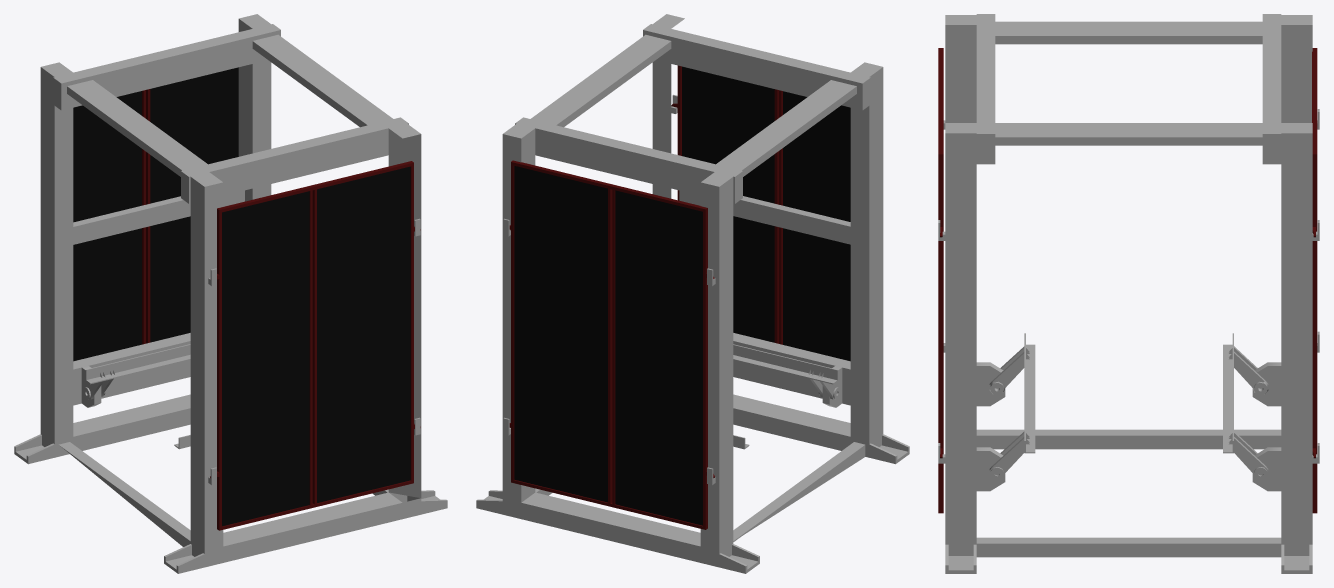
The model's file is SM_ProdLine_storage_B.FBX.
3 views of the same model, side by side, from view 1: azimuth 30°, elevation 25°; view 2: azimuth 150°, elevation 25°; view 3: azimuth 270°, elevation 25° (orthographic). The views are drawn at different scales.
Visible parts, largest first — view 1: SM_ProdLine_storage_B_LOD0; view 2: SM_ProdLine_storage_B_LOD0; view 3: SM_ProdLine_storage_B_LOD0.
Boxes of the visible parts, bbox=[...] form: SM_ProdLine_storage_B_LOD0: bbox=[14, 14, 447, 573]; SM_ProdLine_storage_B_LOD0: bbox=[476, 14, 909, 573]; SM_ProdLine_storage_B_LOD0: bbox=[938, 14, 1319, 573].
Bounding box in the file's own units: 176 × 192 × 237.
